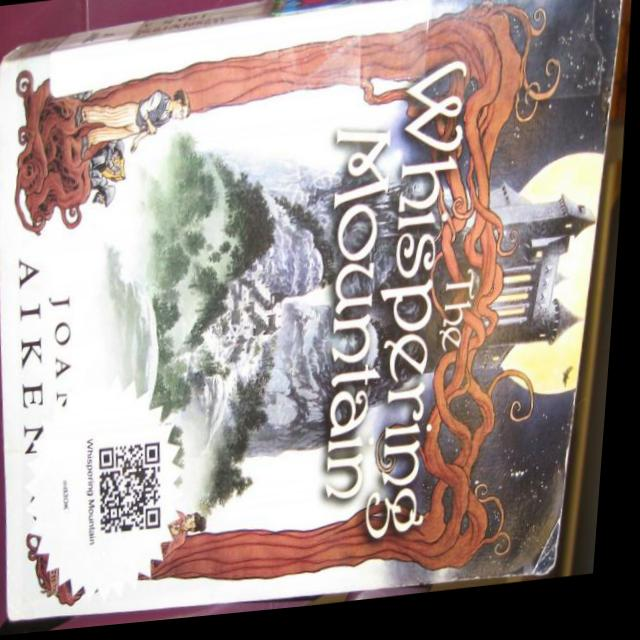qrcode: (102, 446, 174, 538)
